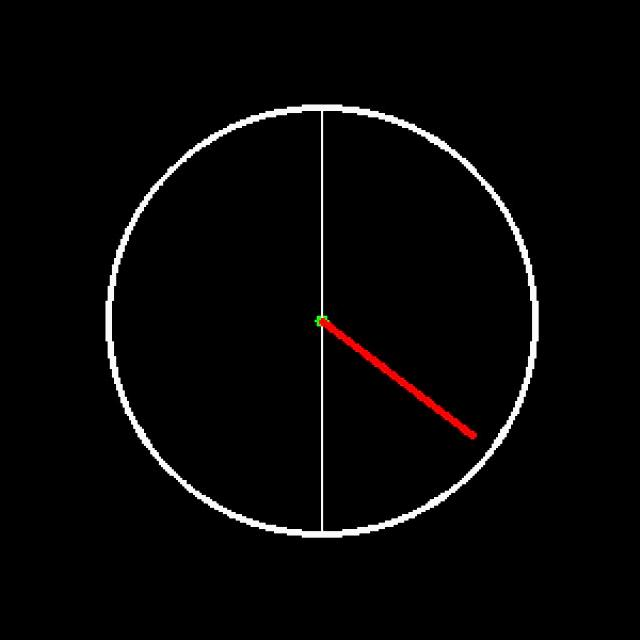Needle_Tip: (448, 414, 495, 456)
Needle_base: (299, 285, 361, 358)
